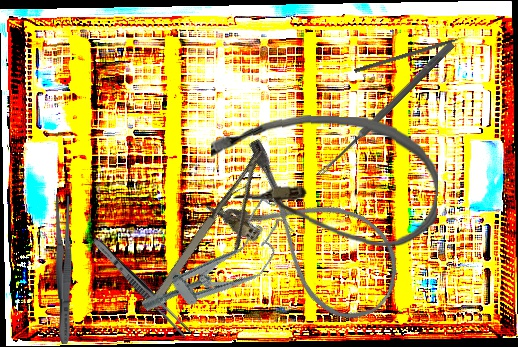Cannula: (198, 131, 420, 338), (207, 112, 441, 248)
Dressing Forceps: (88, 234, 195, 341), (52, 195, 75, 345)
Hook Surgical: (353, 32, 475, 75)
Needle Holder: (147, 147, 294, 323)
Speculum: (132, 192, 307, 342)
Surgical Spoon: (317, 40, 455, 179)
